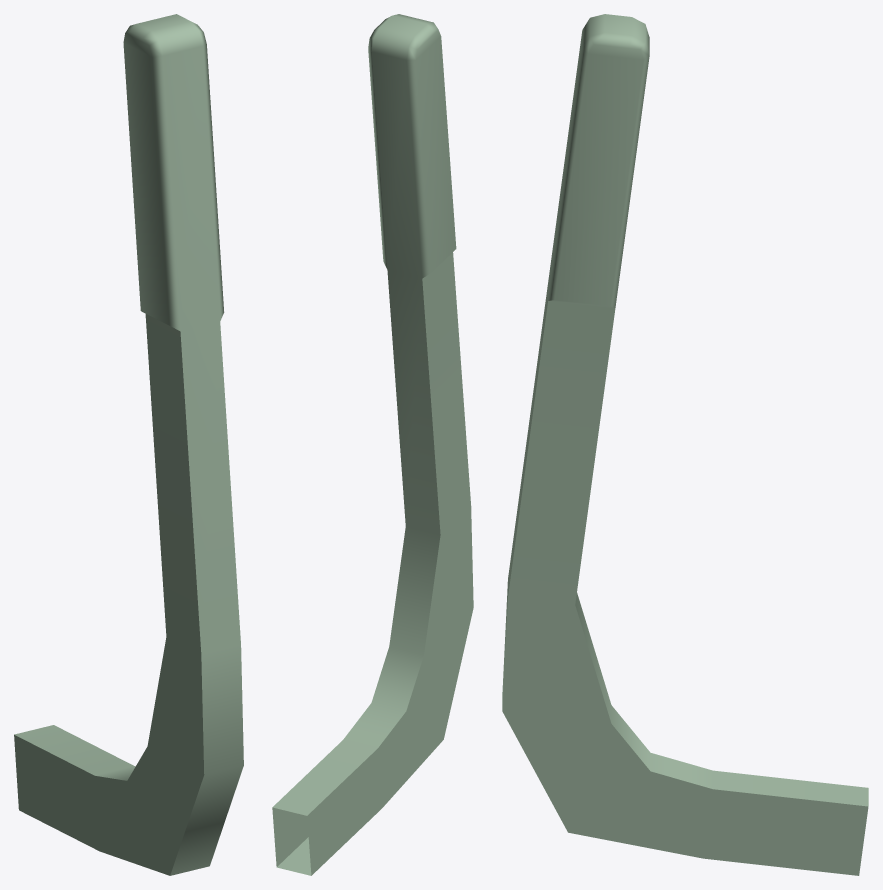
File: AdamLZ_E36_Inside_E_Brake.fbx
3 views of the same model, side by side, from view 1: azimuth 30°, elevation 25°; view 2: azimuth 150°, elevation 25°; view 3: azimuth 270°, elevation 25° (orthographic). The views are drawn at different scales.
Parts seen in each view (by area): view 1: AdamLZ_E36_Inside_E_Brake; view 2: AdamLZ_E36_Inside_E_Brake; view 3: AdamLZ_E36_Inside_E_Brake.
Boxes of the visible parts, x1=… form: AdamLZ_E36_Inside_E_Brake: x1=14, y1=14, x2=243, y2=875; AdamLZ_E36_Inside_E_Brake: x1=272, y1=14, x2=473, y2=875; AdamLZ_E36_Inside_E_Brake: x1=502, y1=14, x2=868, y2=875.
Size of the model in its own units: 2.52 by 38.63 by 15.2.
